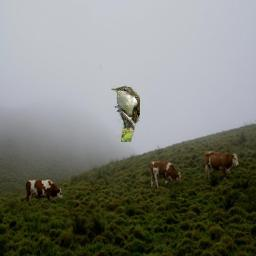Cuckoo: (112, 84, 141, 142)
